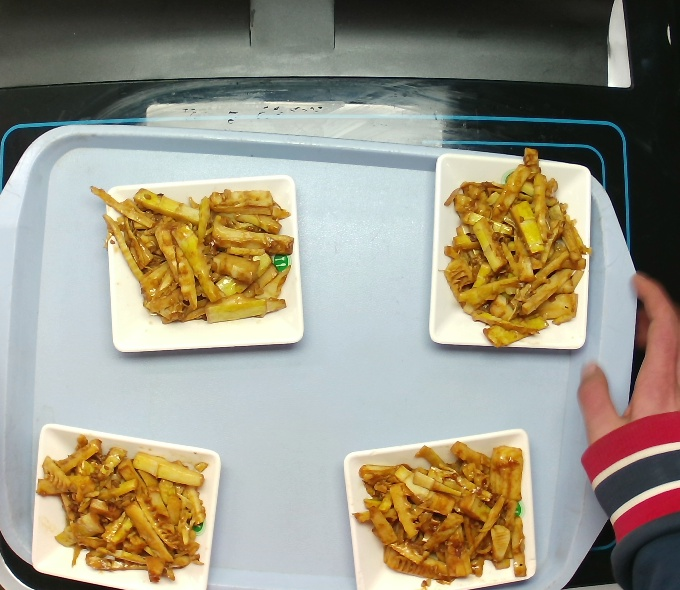wcq-QingChaoChunSun: (25, 429, 224, 587), (341, 432, 539, 585), (97, 179, 295, 330), (437, 159, 587, 340)
